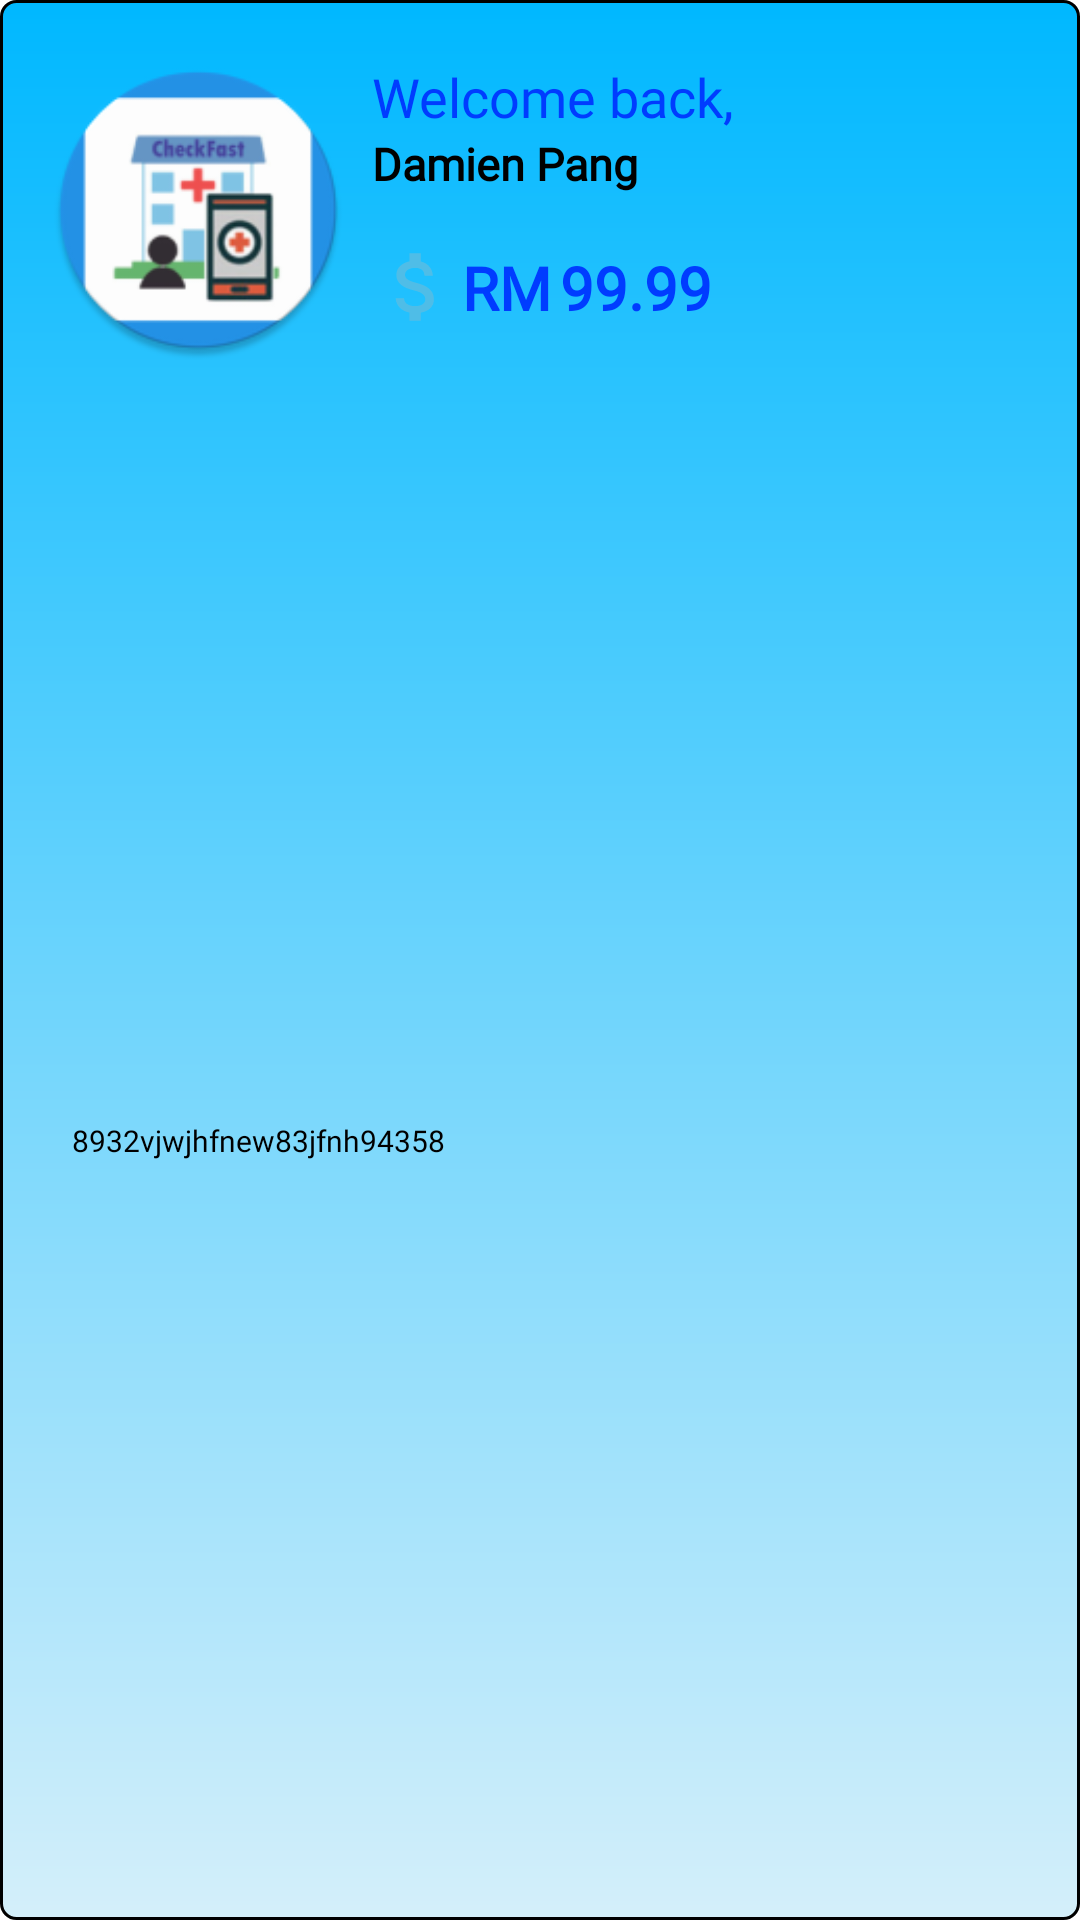

Where to tap for icons on this 1080x1920 app screen, as point (x, y):
money: point (415, 287)
